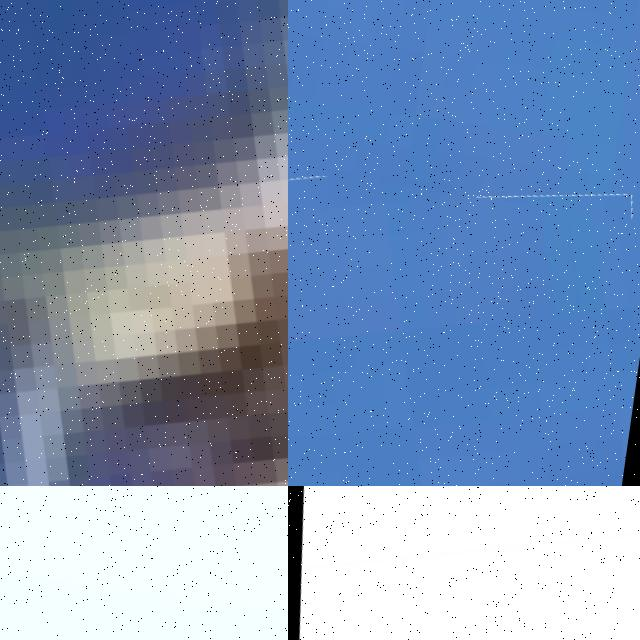0: (0, 0, 288, 486)
drone: (288, 134, 640, 486), (288, 486, 640, 640)
